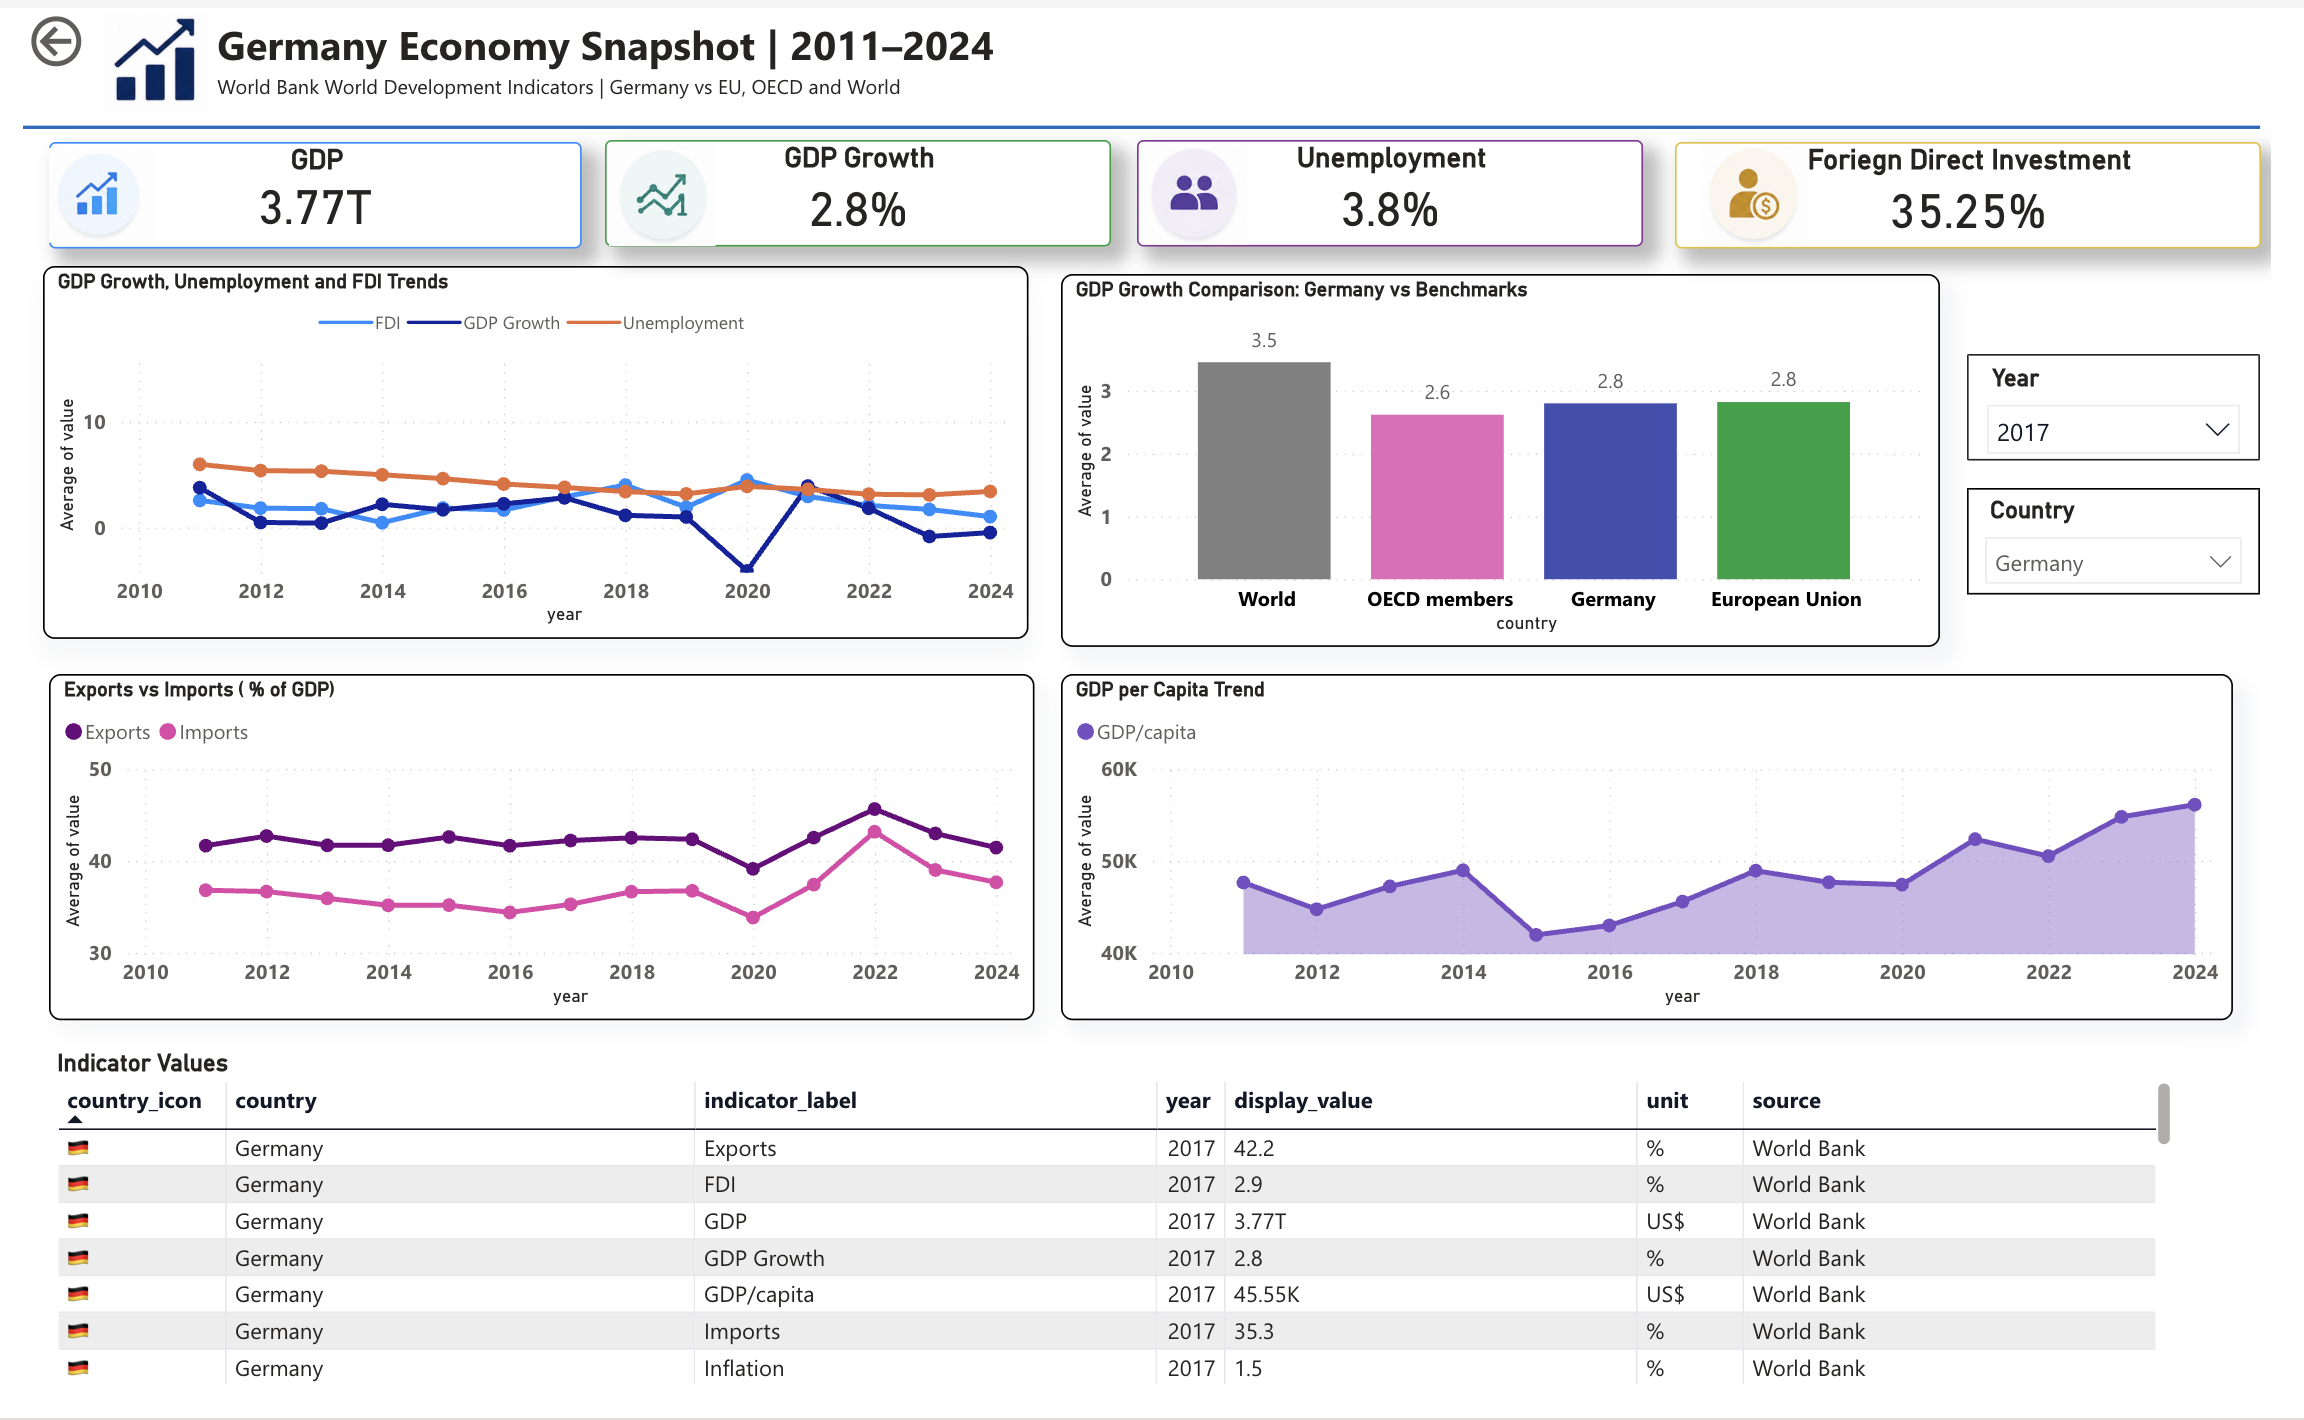

What the dashboard file says about the page in this screenshot:
{"tool":"powerbi","page":{"name":"Duplicate of Germany Economy Snapshot | 2011–2024","canvas":[1350,847],"ordinal":0},"visuals":[{"type":"textbox","box":[112,0,576,64],"z":0},{"type":"slicer","title":"Year","fields":{"Values":["economy_data.year"]},"box":[1168,208,176,64],"z":1000},{"type":"slicer","fields":{"Values":["economy_data.country"]},"box":[1168,288,176,64],"z":2000},{"type":"actionButton","box":[0,0,100,40],"z":3000},{"type":"card","title":"GDP","fields":{"Values":["Avg(economy_data.value)"]},"box":[16,80,320,64],"z":4000},{"type":"lineChart","title":"GDP Growth, Unemployment and FDI Trends","fields":{"Category":["economy_data.year"],"Series":["economy_data.indicator_label"],"Y":["Avg(economy_data.value)"]},"box":[12.5,155.5,592,224],"z":5000},{"type":"card","title":"GDP Growth","fields":{"Values":["economy_data.GDP Growth %"]},"box":[349.3,78.9,304,64],"z":6000},{"type":"clusteredColumnChart","title":"GDP Growth Comparison: Germany vs Benchmarks","fields":{"Category":["economy_data.country"],"Y":["Avg(economy_data.value)"]},"box":[624,160,528,224],"z":7000},{"type":"card","title":"Unemployment ","fields":{"Values":["economy_data.Unemployment %"]},"box":[669.3,78.9,304,64],"z":8000},{"type":"shape","box":[0,64,1344,16],"z":9000},{"type":"card","title":"Foriegn Direct Investment","fields":{"Values":["economy_data.Foriegn Direct Investment %"]},"box":[992,80,352,64],"z":10000},{"type":"lineChart","title":"Exports vs Imports ( % of GDP)","fields":{"Category":["economy_data.year"],"Series":["economy_data.indicator_label"],"Y":["Avg(economy_data.value)"]},"box":[16,400,592,208],"z":11000},{"type":"lineChart","title":"GDP per Capita Trend","fields":{"Category":["economy_data.year"],"Series":["economy_data.indicator_label"],"Y":["Sum(economy_data.value)"]},"box":[624,400,704,208],"z":12000},{"type":"tableEx","title":"Indicator Values","fields":{"Values":["economy_data.country_icon","economy_data.country","economy_data.indicator_label","economy_data.year","economy_data.display_value","economy_data.unit","economy_data.source"]},"box":[16,624,1280,208],"z":13000},{"type":"image","box":[48,0,64,64],"z":14000},{"type":"image","box":[16,80,64,64],"z":15000},{"type":"image","box":[352,80,64,64],"z":16000},{"type":"image","box":[672,80,64,64],"z":16001},{"type":"image","box":[1008,80,64,64],"z":16002}]}

Visuals, with their boxes in screenshot pixels (x1, y1, x2, y2), scaled from the page's 1350x847 canvas onto the 2304x1420 screenshot:
textbox: [left=191, top=0, right=1174, bottom=107]
"Year" slicer: [left=1993, top=349, right=2294, bottom=456]
slicer - economy_data.country: [left=1993, top=483, right=2294, bottom=590]
actionButton: [left=0, top=0, right=171, bottom=67]
"GDP" card: [left=27, top=134, right=573, bottom=241]
"GDP Growth, Unemployment and FDI Trends" lineChart: [left=21, top=261, right=1032, bottom=636]
"GDP Growth" card: [left=596, top=132, right=1115, bottom=240]
"GDP Growth Comparison: Germany vs Benchmarks" clusteredColumnChart: [left=1065, top=268, right=1966, bottom=644]
"Unemployment " card: [left=1142, top=132, right=1661, bottom=240]
shape: [left=0, top=107, right=2294, bottom=134]
"Foriegn Direct Investment" card: [left=1693, top=134, right=2294, bottom=241]
"Exports vs Imports ( % of GDP)" lineChart: [left=27, top=671, right=1038, bottom=1019]
"GDP per Capita Trend" lineChart: [left=1065, top=671, right=2266, bottom=1019]
"Indicator Values" tableEx: [left=27, top=1046, right=2212, bottom=1395]
image: [left=82, top=0, right=191, bottom=107]
image: [left=27, top=134, right=137, bottom=241]
image: [left=601, top=134, right=710, bottom=241]
image: [left=1147, top=134, right=1256, bottom=241]
image: [left=1720, top=134, right=1830, bottom=241]
